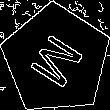M_SE: (23, 27, 89, 92)
